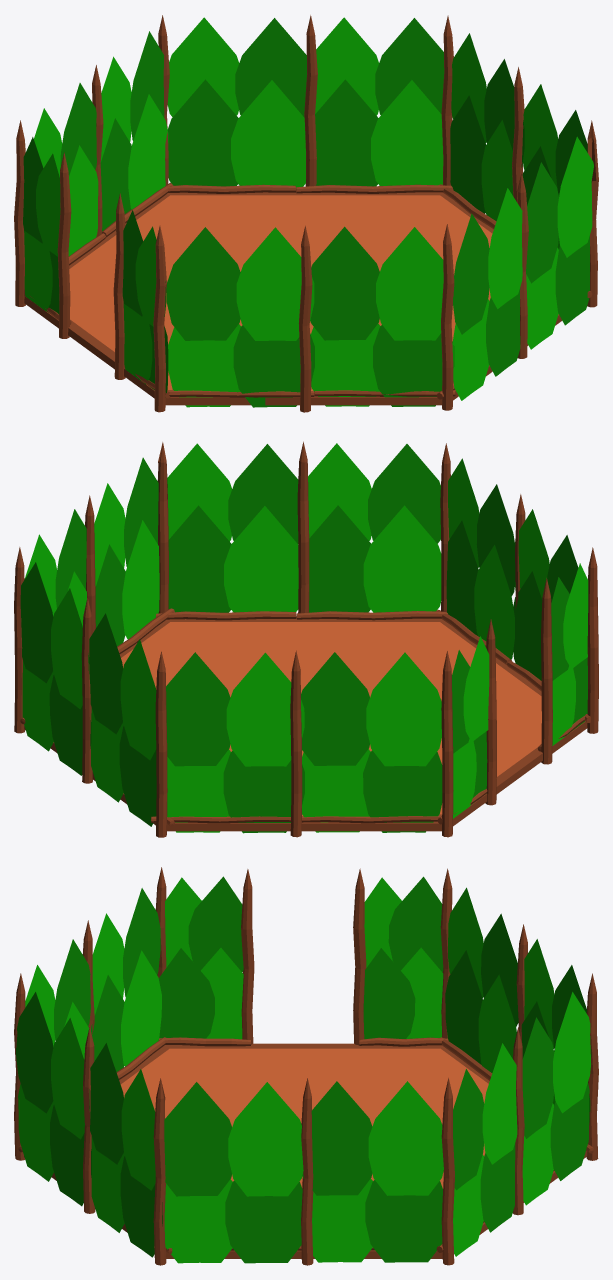
File: InsideHut - Copy.fbx
3 views of the same model, one above another, from view 1: azimuth 30°, elevation 25°; view 2: azimuth 150°, elevation 25°; view 3: azimuth 270°, elevation 25° (orthographic).
Visible parts, largest first — view 1: Torus.013, Torus.010, Cylinder.005; view 2: Torus.013, Torus.010, Cylinder.005; view 3: Torus.013, Torus.010, Cylinder.005.
Part boxes in pixels (x1,y1,x2,y2): Torus.013: (23,17,593,407); Torus.010: (14,15,598,412); Cylinder.005: (24,192,561,405); Torus.013: (20,443,588,833); Torus.010: (14,441,598,837); Cylinder.005: (24,617,587,831); Torus.013: (16,876,591,1263); Torus.010: (14,867,598,1265); Cylinder.005: (24,1043,587,1258).
Bounding box in the file's own units: 2297 × 2014 × 805.
